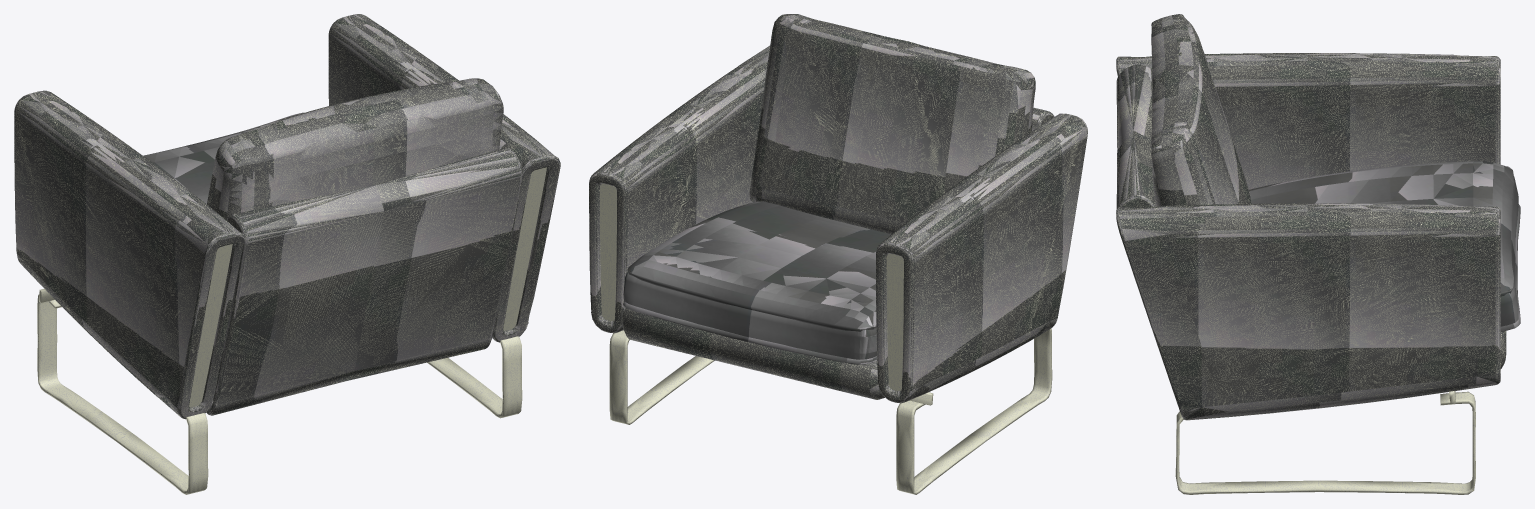
The picture shows the model from 3 angles, left to right: view 1: azimuth 30°, elevation 25°; view 2: azimuth 150°, elevation 25°; view 3: azimuth 270°, elevation 25°; orthographic projection. The views are drawn at different scales.
Visible parts, largest first — view 1: mesh10_mesh10-geometry, mesh15_mesh15-geometry, mesh6_mesh6-geometry, mesh4_mesh4-geometry, mesh13_mesh13-geometry, mesh11_mesh11-geometry, mesh1_mesh1-geometry, mesh5_mesh5-geometry, mesh17_mesh17-geometry; view 2: mesh6_mesh6-geometry, mesh15_mesh15-geometry, mesh4_mesh4-geometry, mesh1_mesh1-geometry, mesh12_mesh12-geometry, mesh3_mesh3-geometry, mesh13_mesh13-geometry, mesh11_mesh11-geometry, mesh16_mesh16-geometry, mesh2_mesh2-geometry; view 3: mesh4_mesh4-geometry, mesh15_mesh15-geometry, mesh6_mesh6-geometry, mesh1_mesh1-geometry, mesh10_mesh10-geometry, mesh11_mesh11-geometry, mesh3_mesh3-geometry, mesh2_mesh2-geometry.
Part boxes in pixels (x1=…): mesh10_mesh10-geometry: x1=206, y1=147, x2=522, y2=415; mesh15_mesh15-geometry: x1=14, y1=90, x2=244, y2=419; mesh6_mesh6-geometry: x1=207, y1=78, x2=503, y2=220; mesh4_mesh4-geometry: x1=328, y1=14, x2=560, y2=342; mesh13_mesh13-geometry: x1=37, y1=294, x2=208, y2=494; mesh11_mesh11-geometry: x1=427, y1=336, x2=522, y2=418; mesh1_mesh1-geometry: x1=143, y1=112, x2=303, y2=203; mesh5_mesh5-geometry: x1=503, y1=167, x2=546, y2=330; mesh17_mesh17-geometry: x1=189, y1=244, x2=232, y2=407; mesh6_mesh6-geometry: x1=749, y1=14, x2=1035, y2=234; mesh15_mesh15-geometry: x1=876, y1=113, x2=1087, y2=403; mesh4_mesh4-geometry: x1=589, y1=45, x2=770, y2=333; mesh1_mesh1-geometry: x1=627, y1=201, x2=891, y2=331; mesh12_mesh12-geometry: x1=622, y1=308, x2=888, y2=399; mesh3_mesh3-geometry: x1=623, y1=271, x2=876, y2=359; mesh13_mesh13-geometry: x1=896, y1=329, x2=1052, y2=494; mesh11_mesh11-geometry: x1=609, y1=330, x2=714, y2=424; mesh16_mesh16-geometry: x1=886, y1=253, x2=903, y2=391; mesh2_mesh2-geometry: x1=623, y1=301, x2=877, y2=364; mesh4_mesh4-geometry: x1=1116, y1=203, x2=1500, y2=420; mesh15_mesh15-geometry: x1=1116, y1=53, x2=1500, y2=189; mesh6_mesh6-geometry: x1=1151, y1=14, x2=1251, y2=206; mesh1_mesh1-geometry: x1=1249, y1=161, x2=1514, y2=296; mesh10_mesh10-geometry: x1=1116, y1=64, x2=1156, y2=208; mesh11_mesh11-geometry: x1=1175, y1=391, x2=1475, y2=494; mesh3_mesh3-geometry: x1=1500, y1=176, x2=1518, y2=326; mesh2_mesh2-geometry: x1=1500, y1=204, x2=1520, y2=331.
Bounding box in the file's own units: 0.5943 × 0.5493 × 0.5874.
